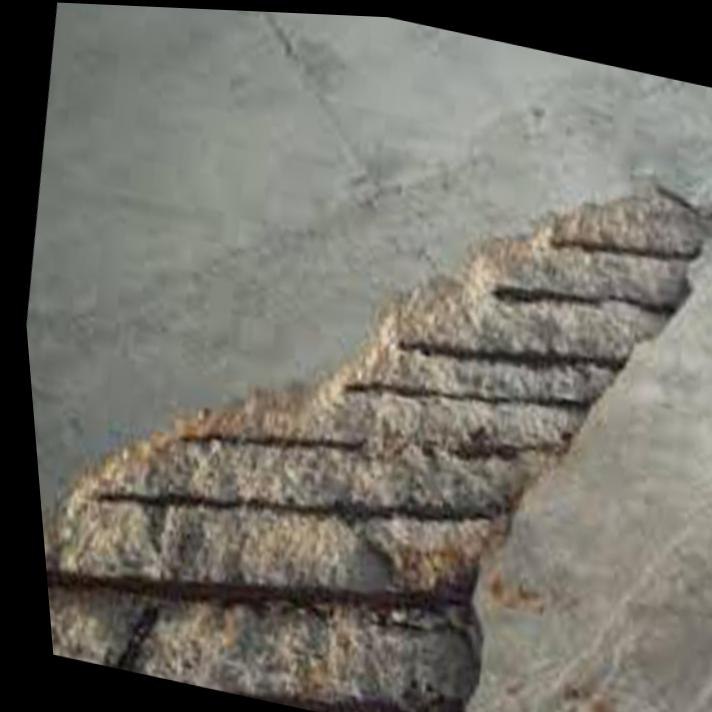damage: (34, 185, 712, 712)
